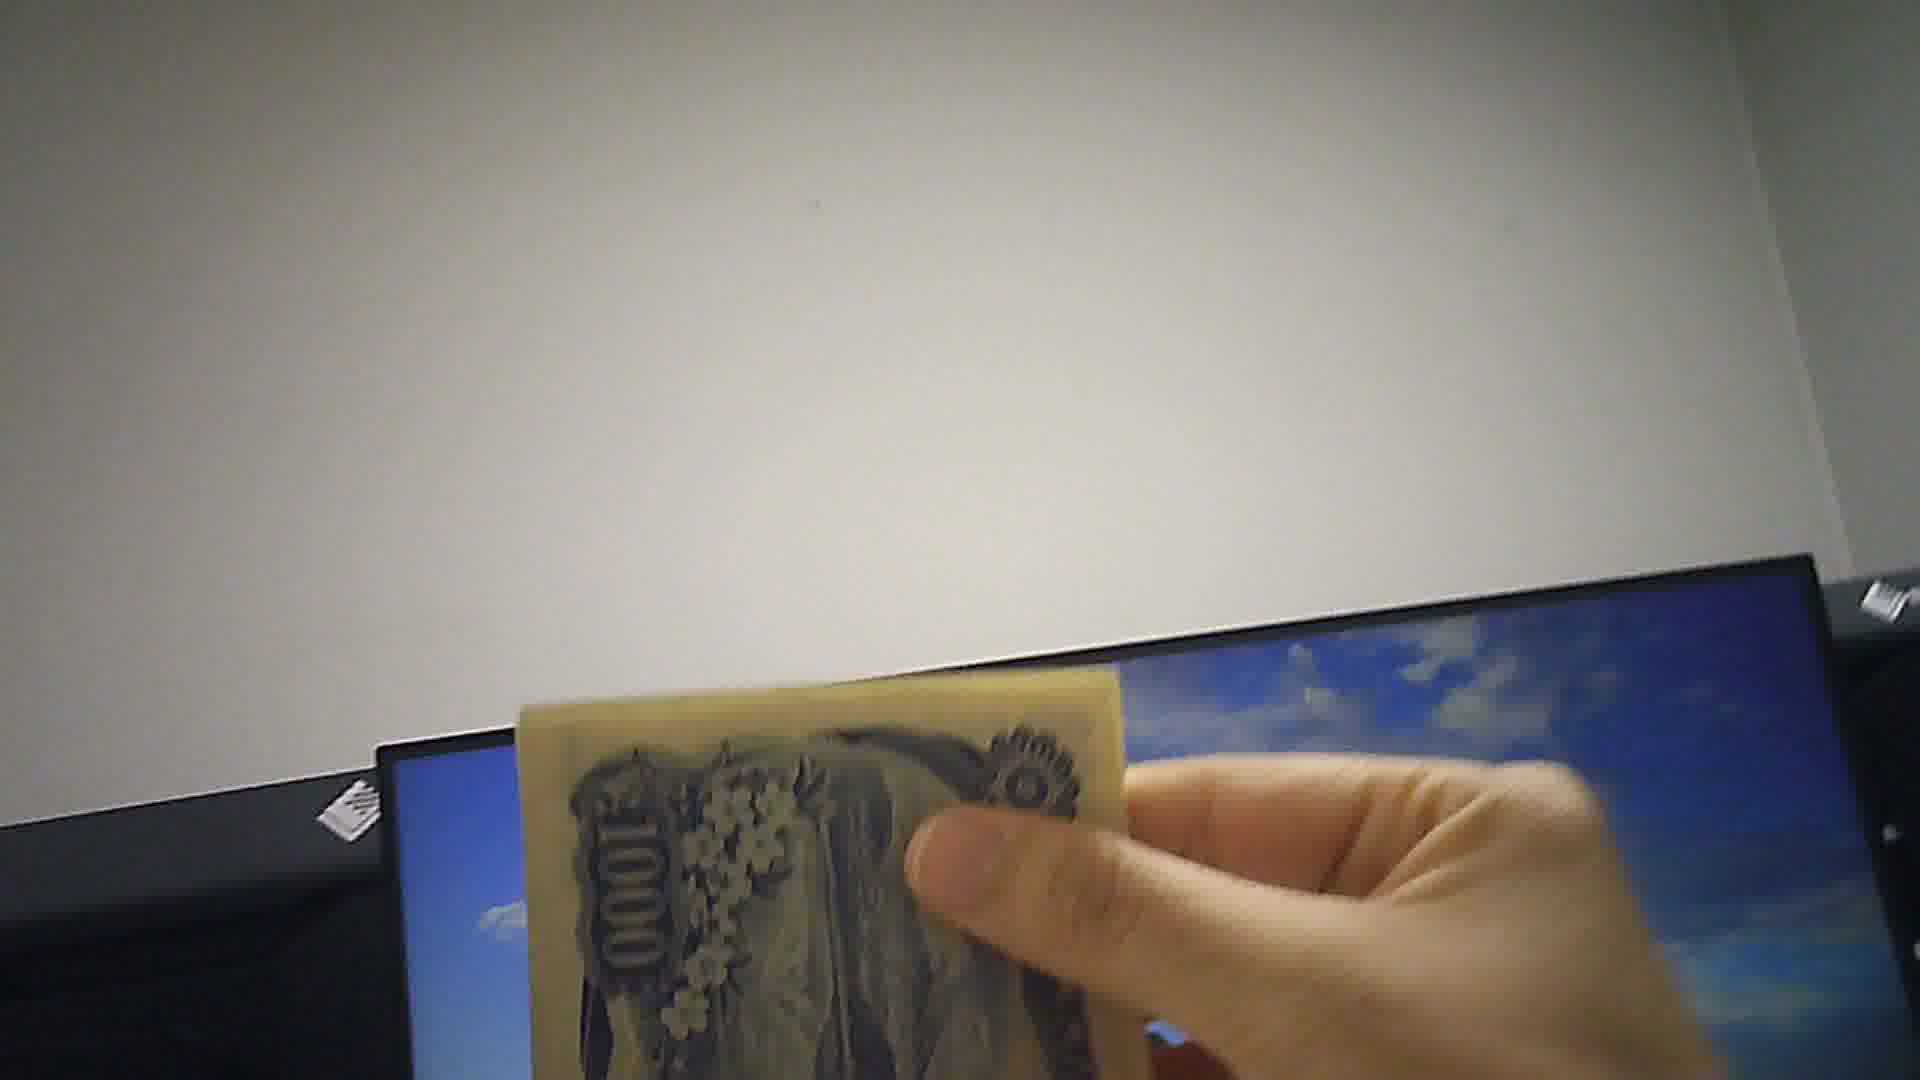1,000 Yen: (514, 670, 1131, 1069)
